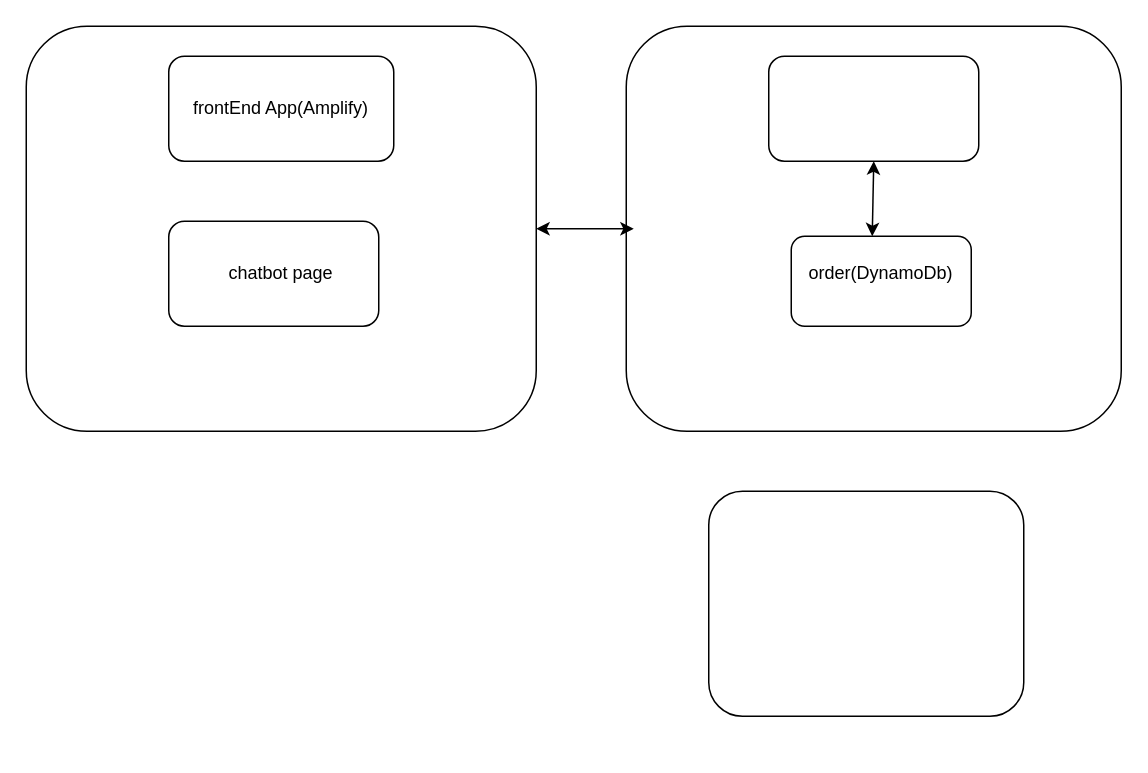
Image size: 1148x773. Some labels were removed from this diagram. The centre of each missing label's shape, as x and y in pixels:
backEnd App(EC2): the point at 873,108
orderSchema: id orderStatus: the point at 865,603
